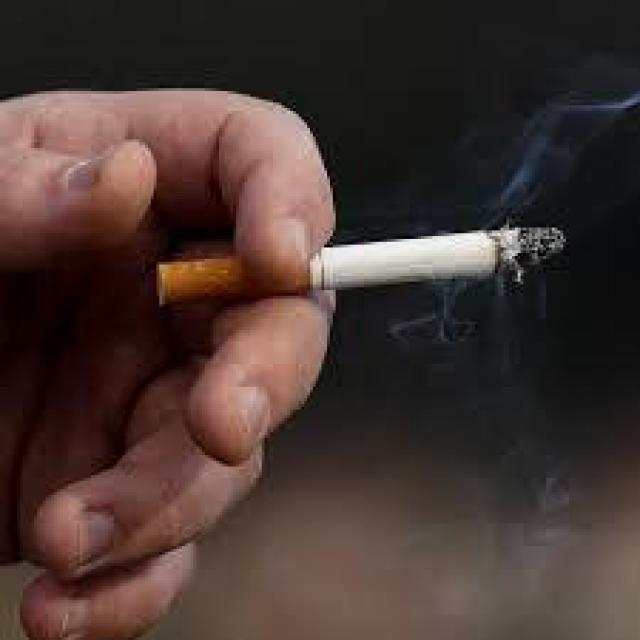smoke: (151, 216, 569, 316)
